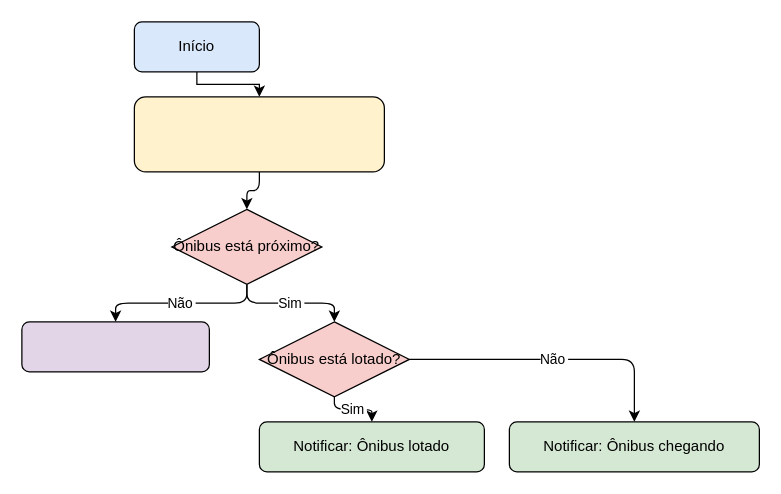
Image size: 781x494. Some labels were removed from this diagram. Each missing label, with the centre of its shape:
Esperar novo ciclo: pixel 115 346
Receber dados (GPS + Lotação): pixel 258 134
